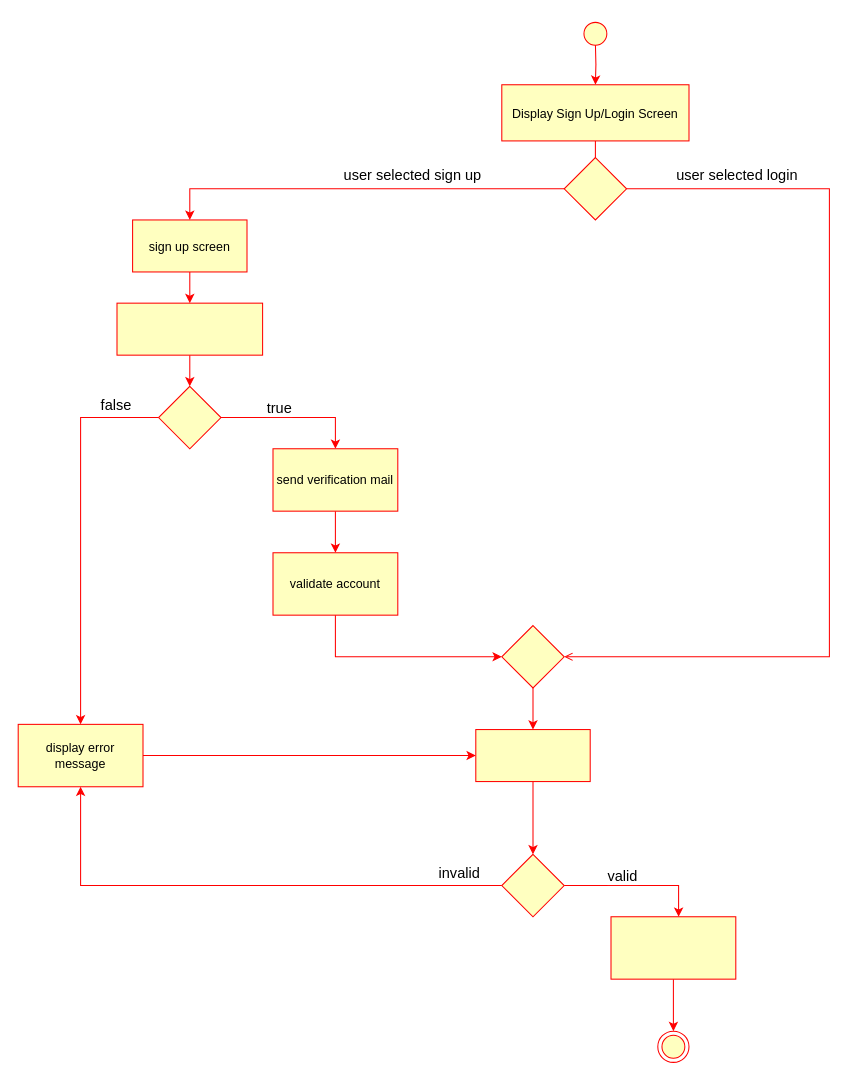
The diagram is 856 pixels wide and 1081 high, and some of its shapes have lost their labels. The shapes that lost their labels are listed below. From the top down, each one's centre as x and y in pixels, then its label:
At pixel 189 328: "inter sign up information".
At pixel 532 755: "display login screen".
At pixel 673 947: "display home screen".
